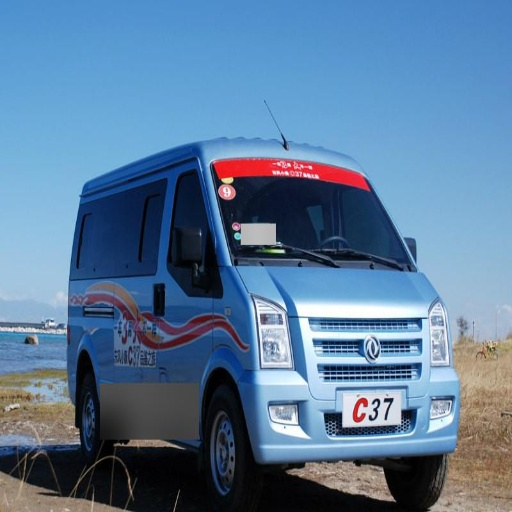front_bumper: (239, 317, 460, 462)
front_right_door: (123, 174, 213, 380)
front_right_light: (256, 301, 294, 369)
hood: (267, 259, 438, 318)
trunk: (132, 392, 196, 440)
